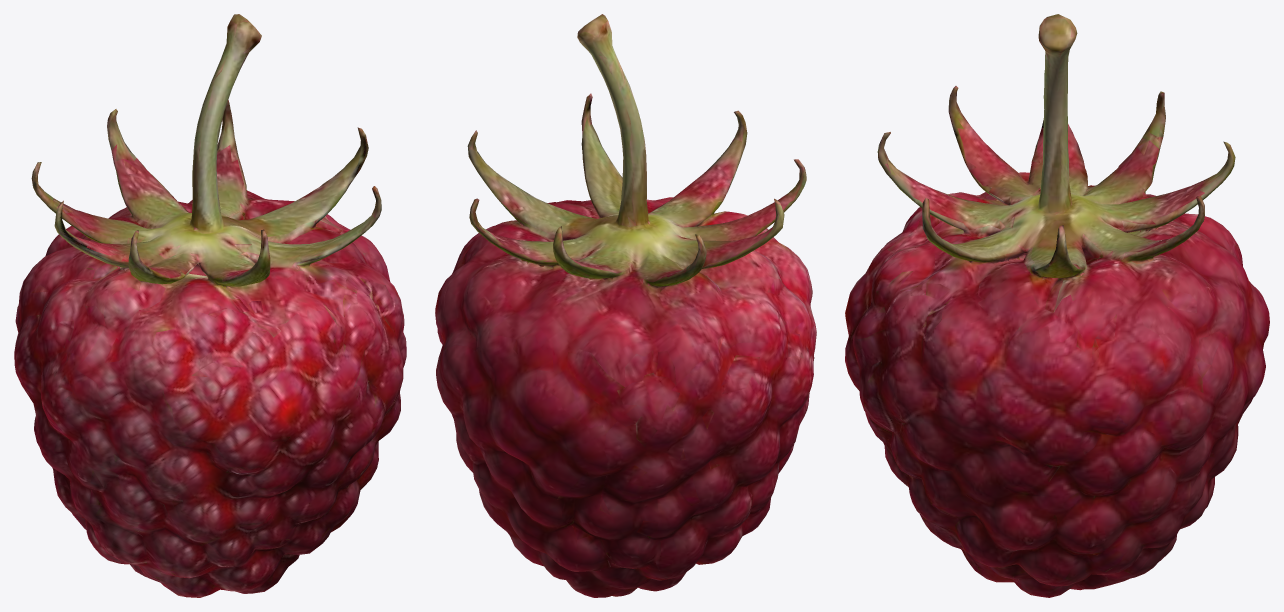
3 views of the same model, side by side, from view 1: azimuth 30°, elevation 25°; view 2: azimuth 150°, elevation 25°; view 3: azimuth 270°, elevation 25° (orthographic). The views are drawn at different scales.
Bounding box in the file's own units: 1.27 × 2.01 × 1.32.
Materials: 1 (1 with a texture image).
